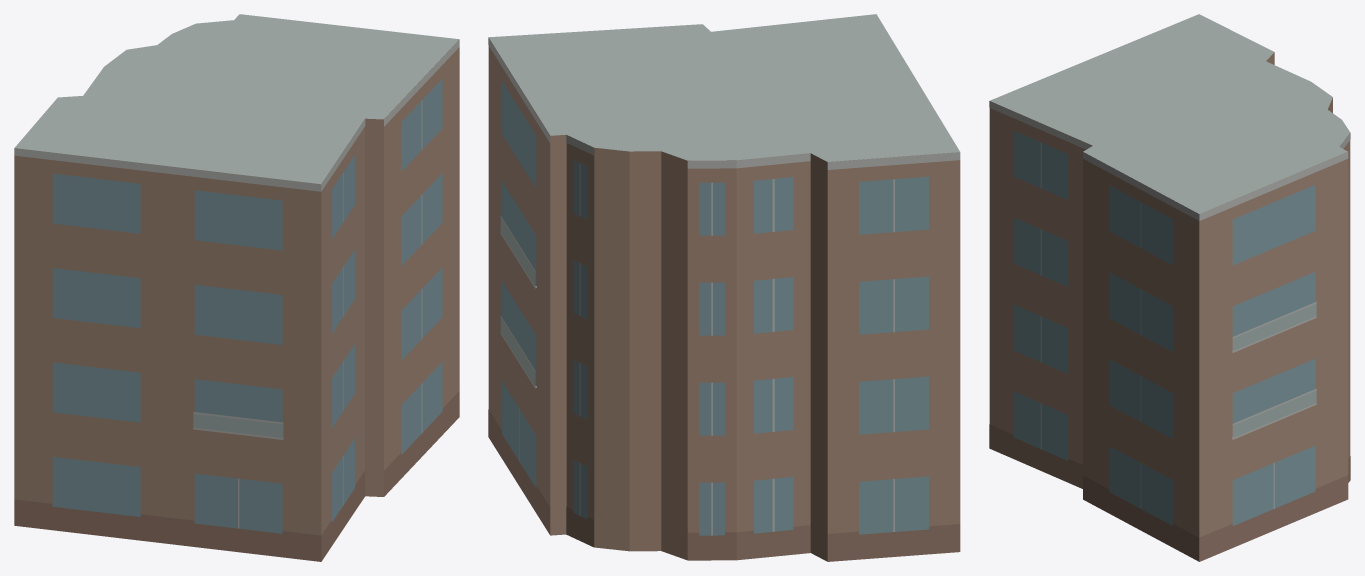
File: survey-upis-32669465.glb
3 renders of one model, left to right at view 1: azimuth 30°, elevation 25°; view 2: azimuth 150°, elevation 25°; view 3: azimuth 270°, elevation 25°, orthographic. The views are drawn at different scales.
Parts seen in each view (by area): view 1: survey-upis-32669465.tmp; view 2: survey-upis-32669465.tmp; view 3: survey-upis-32669465.tmp.
Part boxes in pixels (bbox=[...]): survey-upis-32669465.tmp: bbox=[14, 14, 459, 561]; survey-upis-32669465.tmp: bbox=[488, 14, 960, 561]; survey-upis-32669465.tmp: bbox=[989, 14, 1350, 561].
Size of the model in its own units: 15.07 by 12.2 by 11.49.
